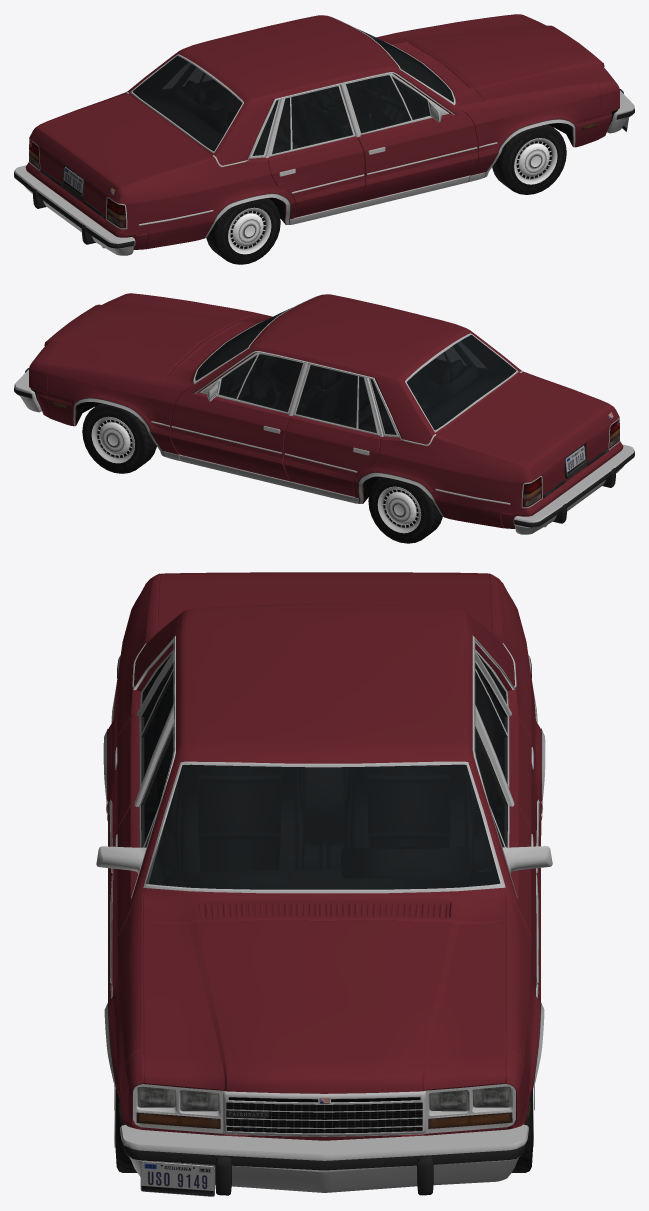
File: fairheavenlt80.glb
The picture shows the model from 3 angles, top to bottom: view 1: azimuth 30°, elevation 25°; view 2: azimuth 150°, elevation 25°; view 3: azimuth 270°, elevation 25°; orthographic projection. The views are drawn at different scales.
Parts seen in each view (by area): view 1: Fairheaven_LT80_body_Fairheaven_LT80_Bodymat_0, Fairheaven_LT80_trunk_door_Fairheaven_LT80_Bodymat_0, Fairheaven_LT80_Hood_Fairheaven_LT80_Bodymat_0, Fairheaven_LT80_Grand_Trim_UCB_BOTTOM_GT_0, Fairheaven_LT80_Interior_Trim_UCB_Interior_Trim_0, Fairheaven_LT80_Interior_UCB_Interior_Trim_0, Fairheaven_LT80_Glass_Rear_UCB_Lights_and_Glass_Transperent_, Fairheaven_LT80_Glass_Body_UCB_Lights_and_Glass_Transperent_, Fairheaven_LT80_WheelHubcaps_FR_RB1c_Tire_1k_0, Fairheaven_LT80_WheelHubcaps_RL_RB1c_Tire_1k_0, Fairheaven_LT80_Glass_Passanger001_UCB_Lights_and_Glass_Tran, Fairheaven_LT80_bumper_rear_UCB_BOTTOM_GT_0 (+8 smaller); view 2: Fairheaven_LT80_body_Fairheaven_LT80_Bodymat_0, Fairheaven_LT80_trunk_door_Fairheaven_LT80_Bodymat_0, Fairheaven_LT80_Hood_Fairheaven_LT80_Bodymat_0, Fairheaven_LT80_Grand_Trim_UCB_BOTTOM_GT_0, Fairheaven_LT80_Interior_Trim_UCB_Interior_Trim_0, Fairheaven_LT80_Interior_UCB_Interior_Trim_0, Fairheaven_LT80_Glass_Rear_UCB_Lights_and_Glass_Transperent_, Fairheaven_LT80_Glass_Body_UCB_Lights_and_Glass_Transperent_, Fairheaven_LT80_WheelHubcaps_FL_RB1c_Tire_1k_0, Fairheaven_LT80_WheelHubcaps_RR_RB1c_Tire_1k_0, Fairheaven_LT80_Glass_Driver001_UCB_Lights_and_Glass_Transpe, Fairheaven_LT80_bumper_rear_UCB_BOTTOM_GT_0 (+9 smaller); view 3: Fairheaven_LT80_body_Fairheaven_LT80_Bodymat_0, Fairheaven_LT80_Hood_Fairheaven_LT80_Bodymat_0, Fairheaven_LT80_Interior_Trim_UCB_Interior_Trim_0, Fairheaven_LT80_Windshield_UCB_Lights_and_Glass_Transperent_, Fairheaven_LT80_Bumper_Front_UCB_BOTTOM_GT_0, Fairheaven_LT80_Grand_Trim_UCB_BOTTOM_GT_0, Fairheaven_LT80_Front_Plate_Inner_UCB_BOTTOM_GT_0, Fairheaven_LT80_trunk_door_Fairheaven_LT80_Bodymat_0, Fairheaven_LT80_Headlights_Glass_UCB_Lights_and_Glass_Transp, Fairheaven_LT80_Front_Plate_Fairheaven_LT80_Bodymat_0, Fairheaven_LT80_Headlights_UCB_Lights_and_Glass_0, Fairheaven_LT80_Glass_Body_UCB_Lights_and_Glass_Transperent_ (+4 smaller).
Part boxes in pixels (<box>): Fairheaven_LT80_body_Fairheaven_LT80_Bodymat_0: <box>25,15,601,249</box>; Fairheaven_LT80_trunk_door_Fairheaven_LT80_Bodymat_0: <box>32,94,211,219</box>; Fairheaven_LT80_Hood_Fairheaven_LT80_Bodymat_0: <box>394,14,615,100</box>; Fairheaven_LT80_Grand_Trim_UCB_BOTTOM_GT_0: <box>29,16,575,238</box>; Fairheaven_LT80_Interior_Trim_UCB_Interior_Trim_0: <box>170,44,453,155</box>; Fairheaven_LT80_Interior_UCB_Interior_Trim_0: <box>133,39,451,150</box>; Fairheaven_LT80_Glass_Rear_UCB_Lights_and_Glass_Transperent_: <box>132,56,242,151</box>; Fairheaven_LT80_Glass_Body_UCB_Lights_and_Glass_Transperent_: <box>163,63,352,155</box>; Fairheaven_LT80_WheelHubcaps_FR_RB1c_Tire_1k_0: <box>492,124,566,194</box>; Fairheaven_LT80_WheelHubcaps_RL_RB1c_Tire_1k_0: <box>206,198,280,264</box>; Fairheaven_LT80_Glass_Passanger001_UCB_Lights_and_Glass_Tran: <box>346,75,429,132</box>; Fairheaven_LT80_bumper_rear_UCB_BOTTOM_GT_0: <box>14,165,135,255</box>; Fairheaven_LT80_body_Fairheaven_LT80_Bodymat_0: <box>47,294,623,528</box>; Fairheaven_LT80_trunk_door_Fairheaven_LT80_Bodymat_0: <box>437,373,616,498</box>; Fairheaven_LT80_Hood_Fairheaven_LT80_Bodymat_0: <box>33,294,255,379</box>; Fairheaven_LT80_Grand_Trim_UCB_BOTTOM_GT_0: <box>73,295,619,517</box>; Fairheaven_LT80_Interior_Trim_UCB_Interior_Trim_0: <box>195,326,478,434</box>; Fairheaven_LT80_Interior_UCB_Interior_Trim_0: <box>197,319,515,429</box>; Fairheaven_LT80_Glass_Rear_UCB_Lights_and_Glass_Transperent_: <box>407,335,516,430</box>; Fairheaven_LT80_Glass_Body_UCB_Lights_and_Glass_Transperent_: <box>296,342,485,434</box>; Fairheaven_LT80_WheelHubcaps_FL_RB1c_Tire_1k_0: <box>82,403,156,473</box>; Fairheaven_LT80_WheelHubcaps_RR_RB1c_Tire_1k_0: <box>368,477,442,543</box>; Fairheaven_LT80_Glass_Driver001_UCB_Lights_and_Glass_Transpe: <box>219,354,302,411</box>; Fairheaven_LT80_bumper_rear_UCB_BOTTOM_GT_0: <box>513,444,634,534</box>; Fairheaven_LT80_body_Fairheaven_LT80_Bodymat_0: <box>107,573,541,1116</box>; Fairheaven_LT80_Hood_Fairheaven_LT80_Bodymat_0: <box>143,920,505,1093</box>; Fairheaven_LT80_Interior_Trim_UCB_Interior_Trim_0: <box>147,687,501,889</box>; Fairheaven_LT80_Windshield_UCB_Lights_and_Glass_Transperent_: <box>146,764,500,889</box>; Fairheaven_LT80_Bumper_Front_UCB_BOTTOM_GT_0: <box>120,1124,528,1195</box>; Fairheaven_LT80_Grand_Trim_UCB_BOTTOM_GT_0: <box>96,635,552,1088</box>; Fairheaven_LT80_Front_Plate_Inner_UCB_BOTTOM_GT_0: <box>133,1063,515,1136</box>; Fairheaven_LT80_trunk_door_Fairheaven_LT80_Bodymat_0: <box>157,572,491,632</box>; Fairheaven_LT80_Headlights_Glass_UCB_Lights_and_Glass_Transp: <box>136,1086,512,1128</box>; Fairheaven_LT80_Front_Plate_Fairheaven_LT80_Bodymat_0: <box>122,1050,526,1140</box>; Fairheaven_LT80_Headlights_UCB_Lights_and_Glass_0: <box>138,1087,510,1110</box>; Fairheaven_LT80_Glass_Body_UCB_Lights_and_Glass_Transperent_: <box>142,653,506,776</box>.
Size of the model in its own units: 5 by 1.35 by 1.83.
Materials: 8 (7 with a texture image).
